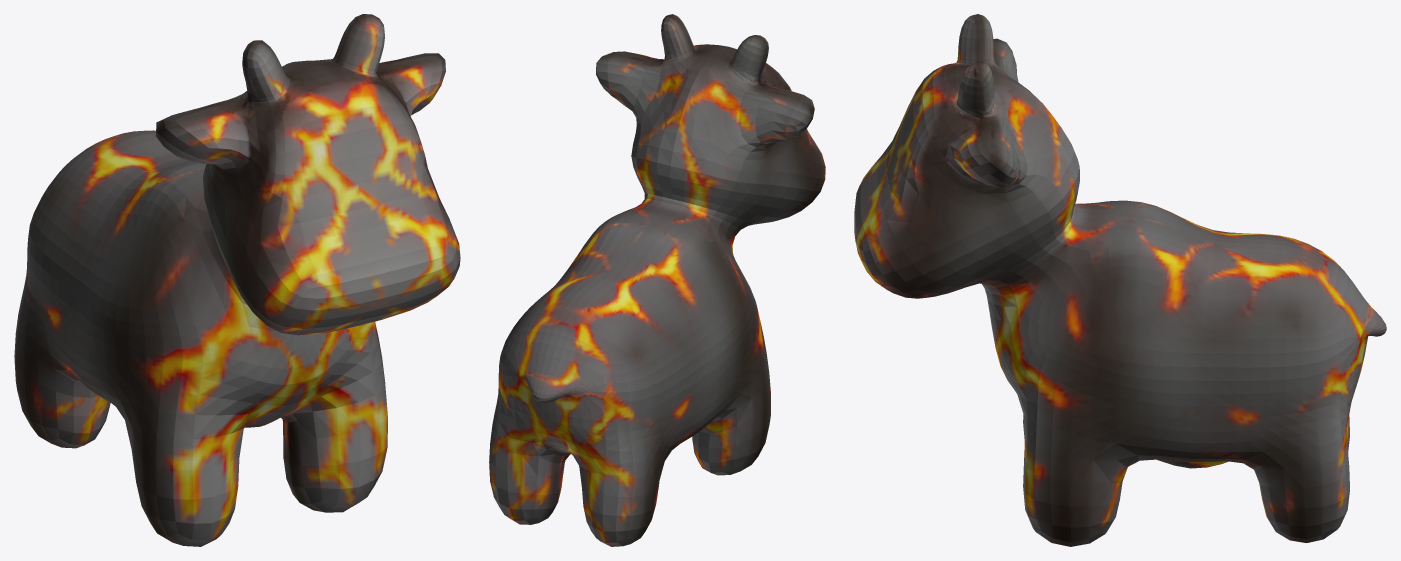
File: ours_t3.glb
3 renders of one model, left to right at view 1: azimuth 30°, elevation 25°; view 2: azimuth 150°, elevation 25°; view 3: azimuth 270°, elevation 25°, orthographic. The views are drawn at different scales.
Parts seen in each view (by area): view 1: geometry_0; view 2: geometry_0; view 3: geometry_0.
Boxes of the visible parts, bbox=[...] form: geometry_0: bbox=[14, 14, 460, 546]; geometry_0: bbox=[489, 14, 825, 546]; geometry_0: bbox=[854, 14, 1386, 546].
Size of the model in its own units: 0.549 by 0.984 by 1.
